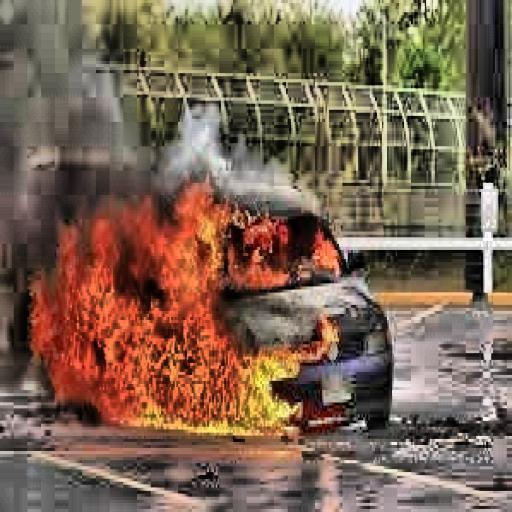fire: (46, 162, 302, 454)
